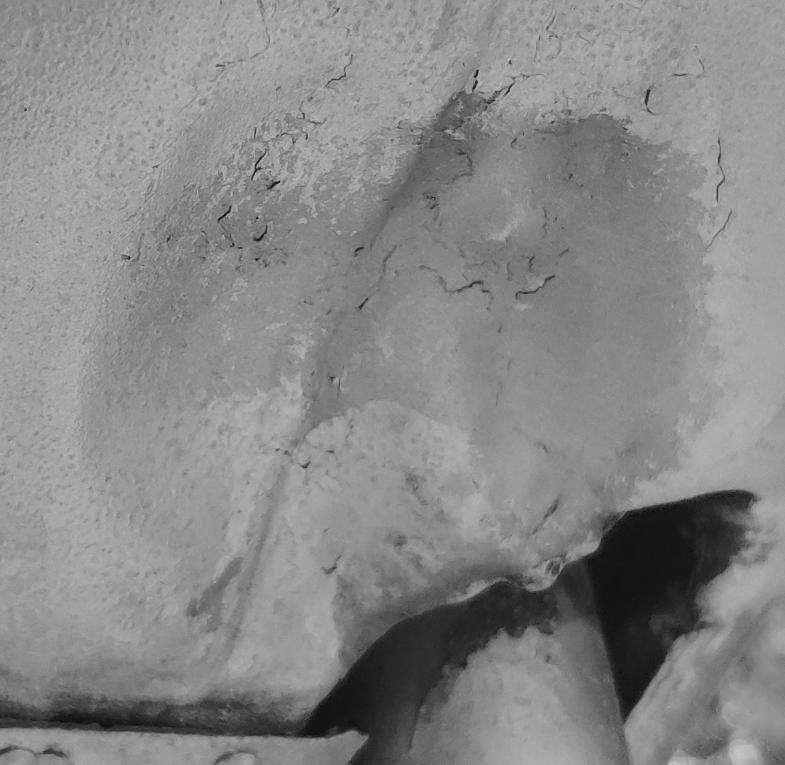dent: (0, 1, 785, 765)
